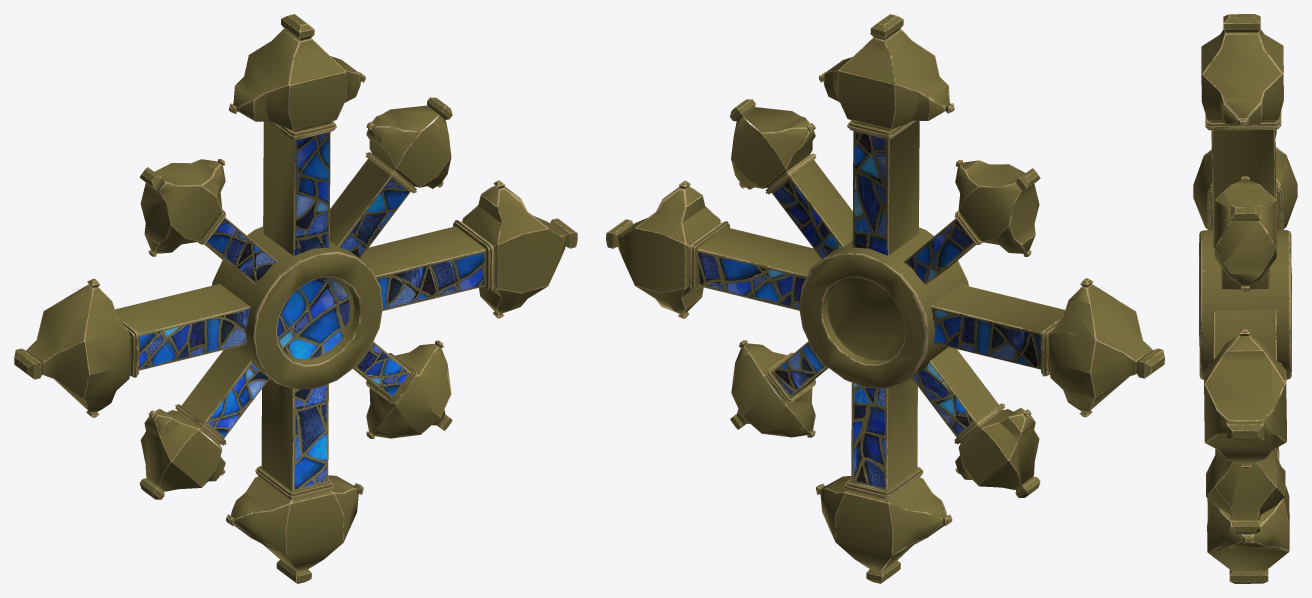
Rendered from rotatingLeverHandle_lowPoly.glb.
3 views of the same model, side by side, from view 1: azimuth 30°, elevation 25°; view 2: azimuth 150°, elevation 25°; view 3: azimuth 270°, elevation 25° (orthographic).
Parts seen in each view (by area): view 1: Mesh_1.001; view 2: Mesh_1.001; view 3: Mesh_1.001.
Boxes of the visible parts, x1,y1,x2,y2 form: Mesh_1.001: (14,14,577,583); Mesh_1.001: (606,14,1164,583); Mesh_1.001: (1193,14,1297,583).
Bounding box in the file's own units: 0.75 × 0.7311 × 0.1219.
1 material, 1 textured.
